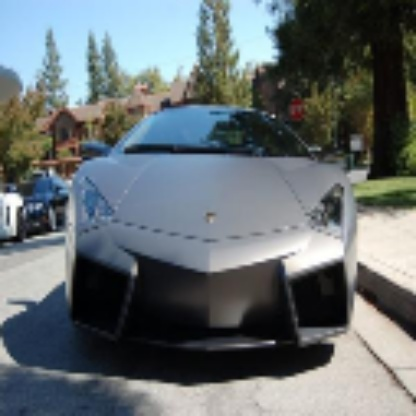Vehicle: (65, 107, 360, 355)
